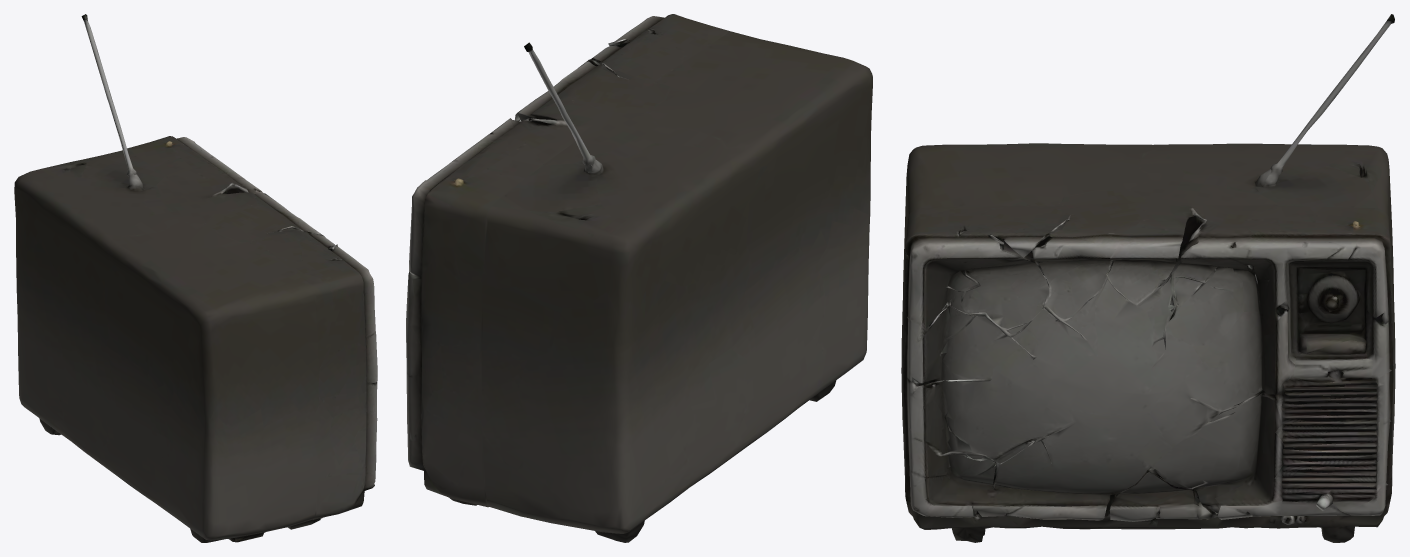
The model's file is crt.glb.
The picture shows the model from 3 angles, left to right: view 1: azimuth 30°, elevation 25°; view 2: azimuth 150°, elevation 25°; view 3: azimuth 270°, elevation 25°; orthographic projection. The views are drawn at different scales.
Visible parts, largest first — view 1: tripo_node_8623497b-082e-4381-9867-1f54e8f917d8; view 2: tripo_node_8623497b-082e-4381-9867-1f54e8f917d8; view 3: tripo_node_8623497b-082e-4381-9867-1f54e8f917d8.
Part boxes in pixels (left/top/right/bottom): tripo_node_8623497b-082e-4381-9867-1f54e8f917d8: left=14, top=14, right=377, bottom=542; tripo_node_8623497b-082e-4381-9867-1f54e8f917d8: left=406, top=14, right=872, bottom=542; tripo_node_8623497b-082e-4381-9867-1f54e8f917d8: left=901, top=14, right=1395, bottom=542.
Size of the model in its own units: 0.5063 by 1 by 0.9308.
1 material, 1 textured.
